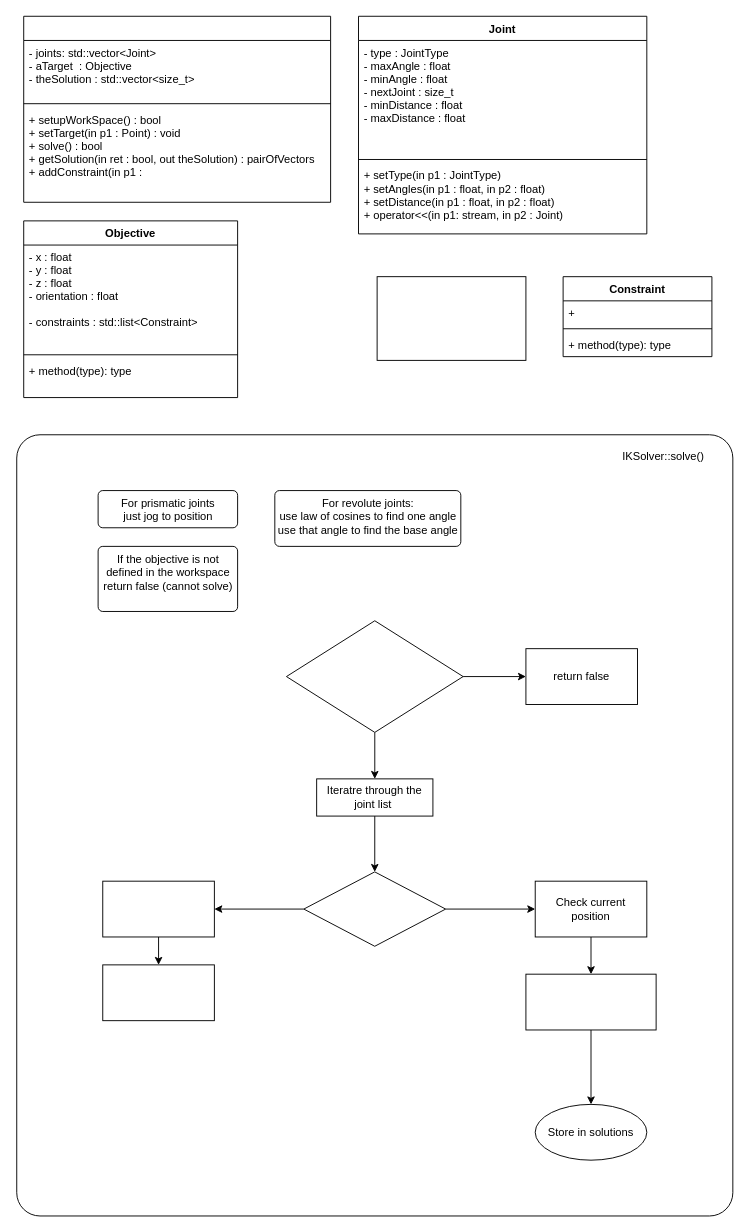
This 749x1232 diagram has some shape labels left out. Here are the shapes that lost their labels. From the top down, the box of each, then its label:
(23, 15, 331, 202): IKSolver
(376, 276, 526, 360): JointType + JointType::Revolute + JointType::Prismatic
(286, 620, 463, 732): Is Objective defined in the workspace?
(102, 880, 214, 937): solve using law of cosines
(303, 871, 446, 946): What joint type is it?
(525, 973, 656, 1030): Measure distance from current position to target (distance = cur-target)
